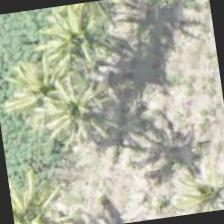Kelapa_Sawit: (27, 64, 129, 166), (26, 0, 128, 102), (0, 48, 95, 151), (154, 144, 223, 219), (9, 176, 71, 223)
